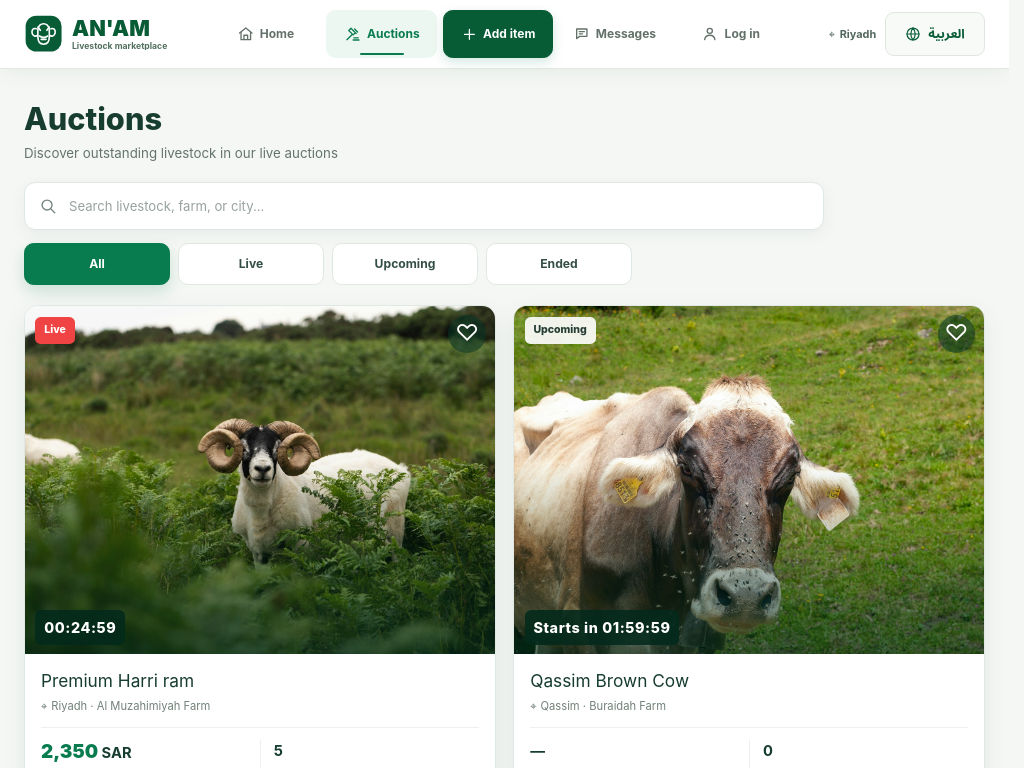
Test: responsive Auction List page › searches localized auction data and exposes an empty state
Type "Riyadh" into the search field named "Search auctions".
click(424, 206); type("Riyadh")  # box 25,183 -> 823,229
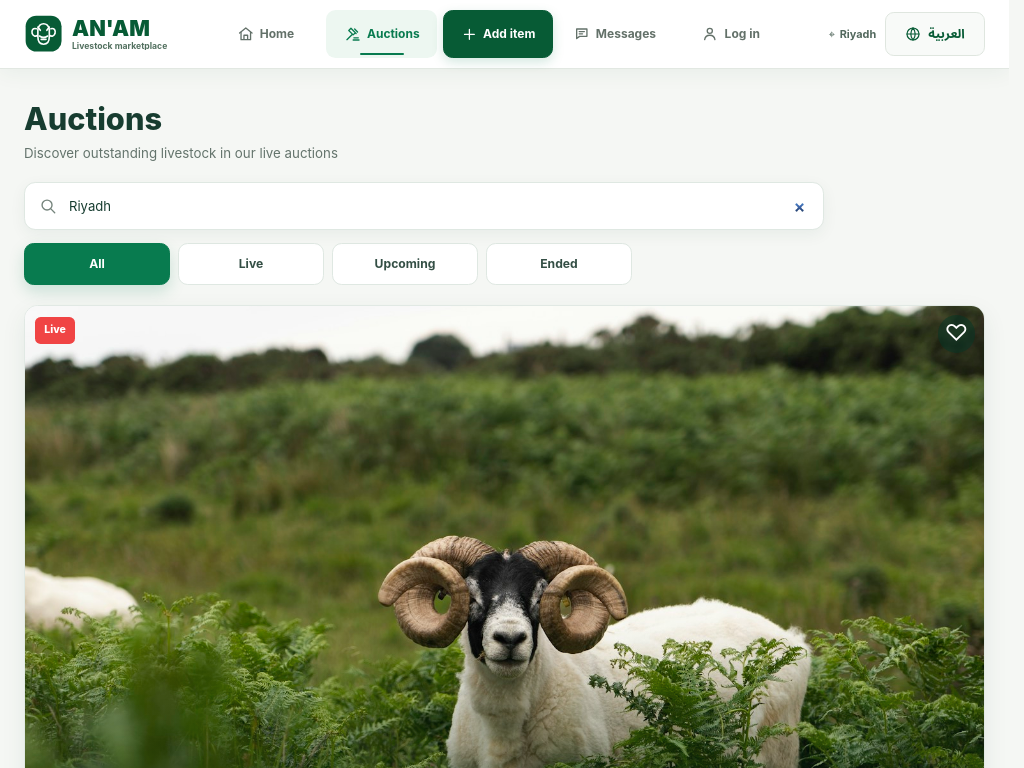
Replace the text in the search field named "Search auctions" with "not-a-real-auction" at (424,206), box 25,183 -> 823,229
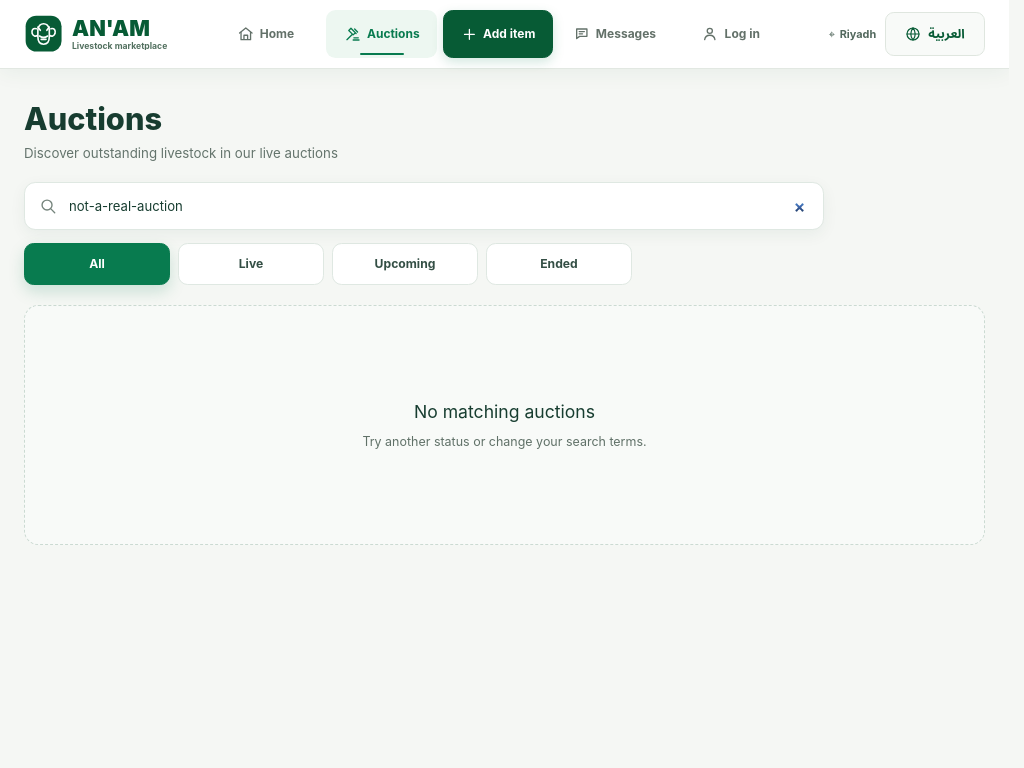
Check: the message shows "No matching auctions", box 414,401 -> 595,422
